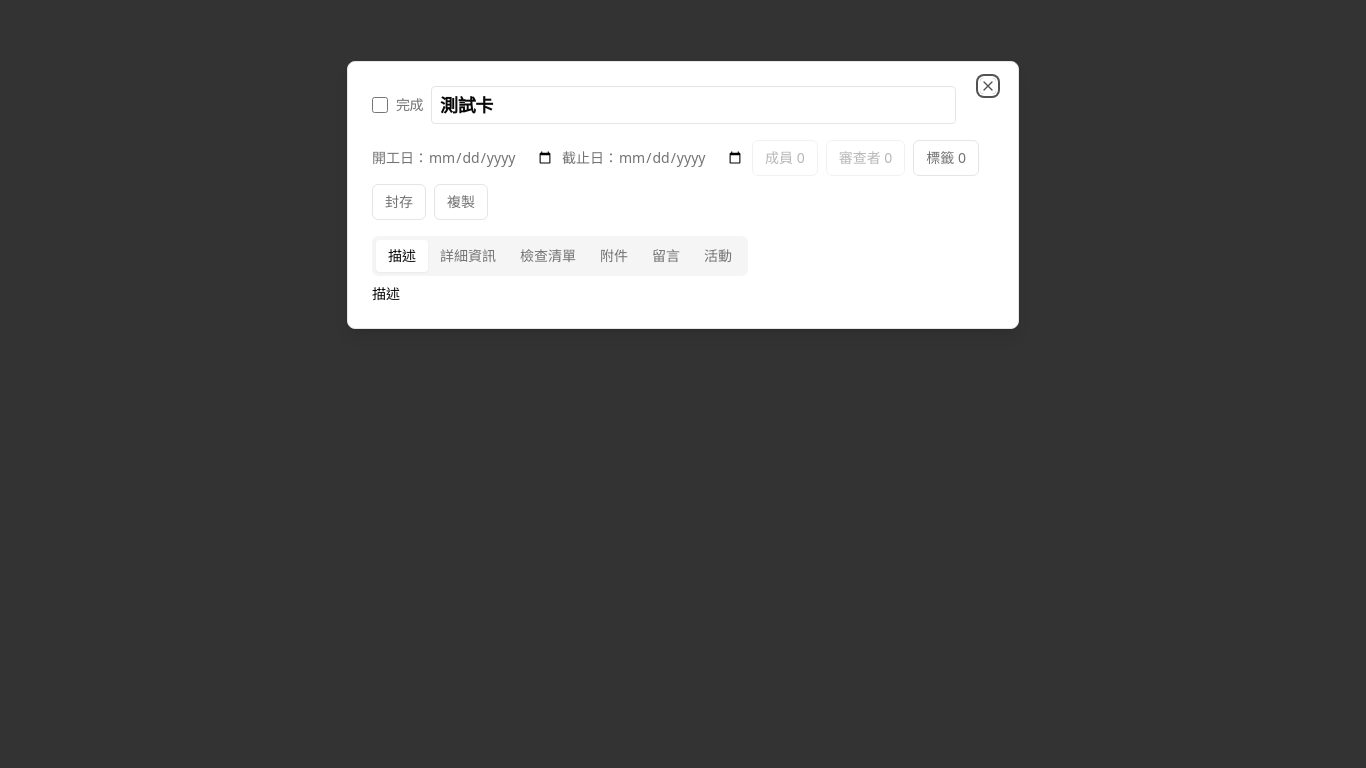
Test: CopyCardDialog 三層目標選擇 › 已封存的列表不出現在選項裡，未封存的照常在
The image size is (1366, 768).
Check: the field showing "測試卡" is shown, box [431,86,956,124]
Click the button "複製": (461, 202) [434,184,488,220]
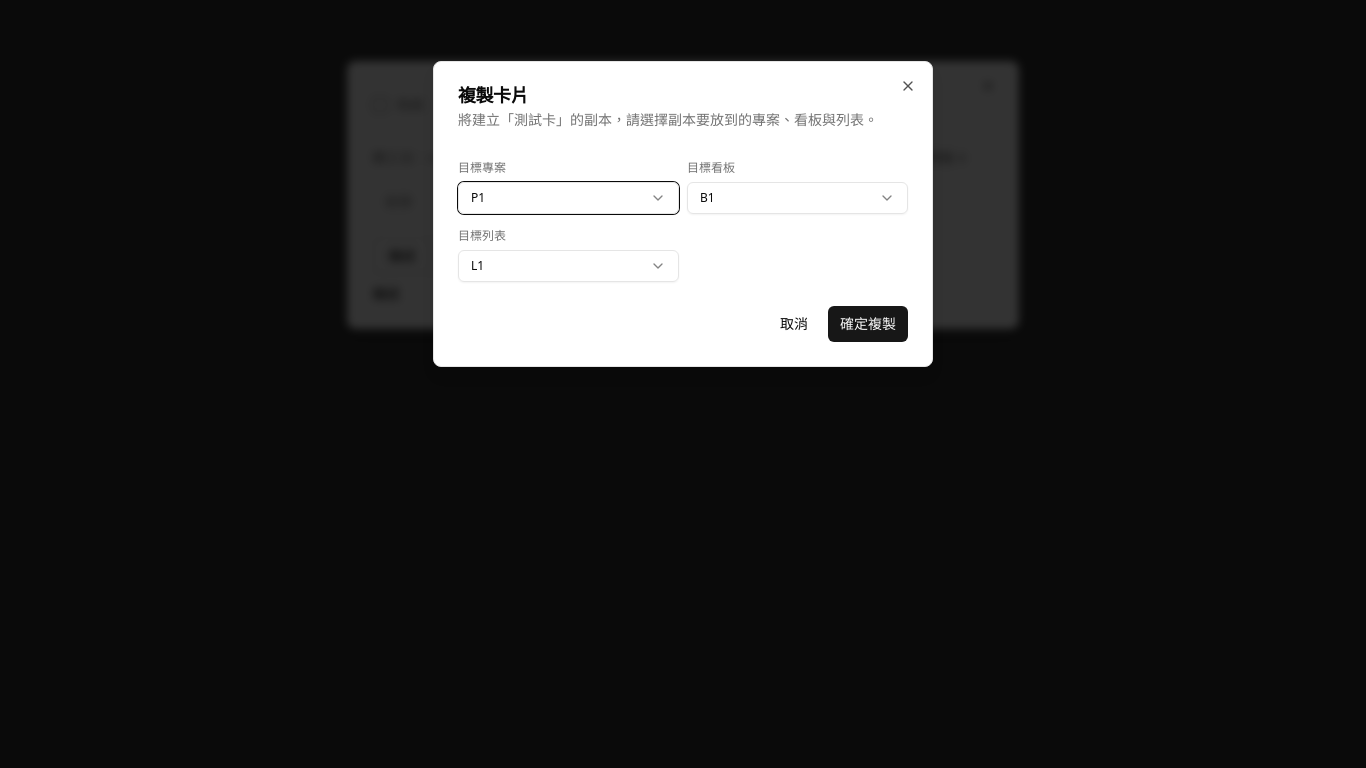
Check: the dropdown named "目標列表" is enabled
Click the dropdown named "目標列表": (568, 266) [458,250,679,282]
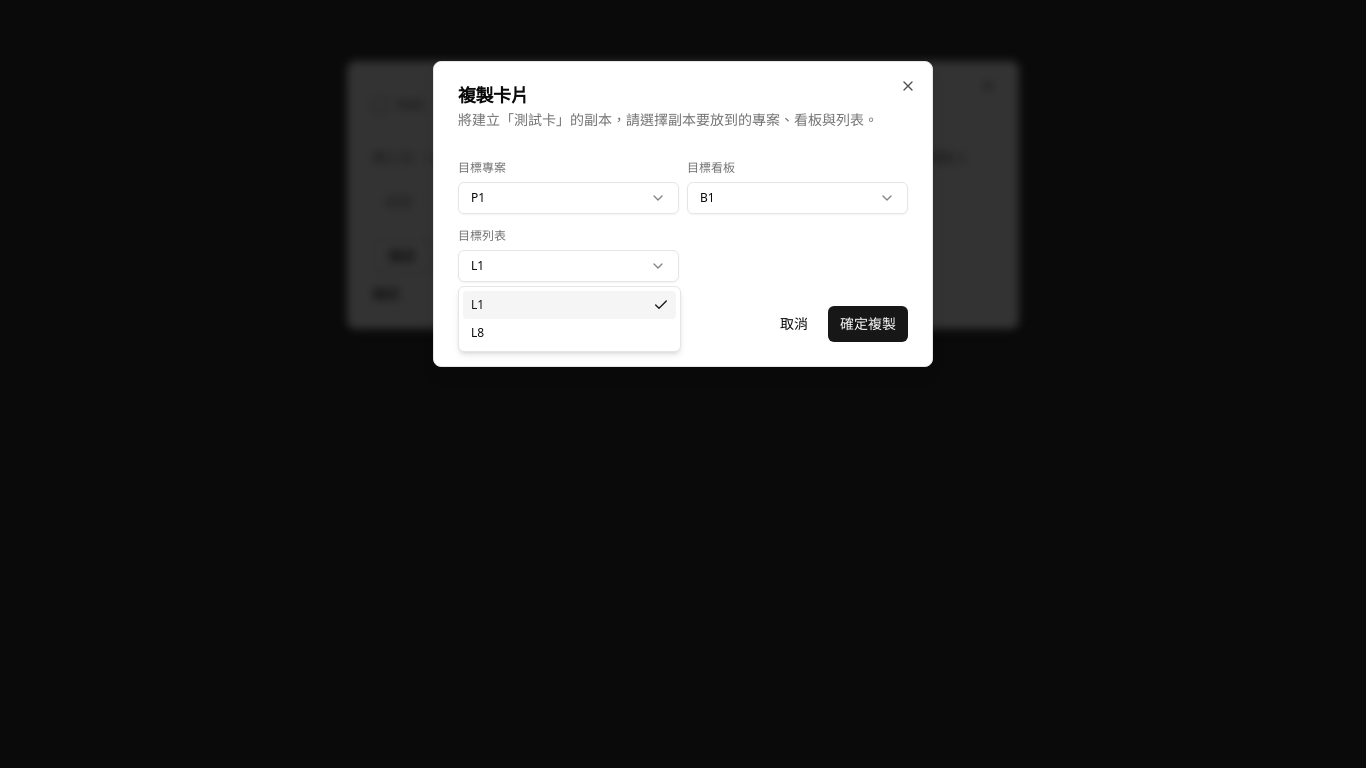
Check: the option "L8" is shown, box [471,324,484,341]
